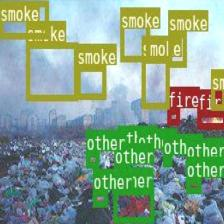fire: (196, 110, 224, 127), (167, 108, 179, 123)
smoke: (25, 42, 77, 99), (0, 0, 48, 37), (119, 7, 148, 61), (140, 56, 168, 108), (76, 65, 105, 98), (167, 31, 186, 65), (210, 68, 224, 108)
